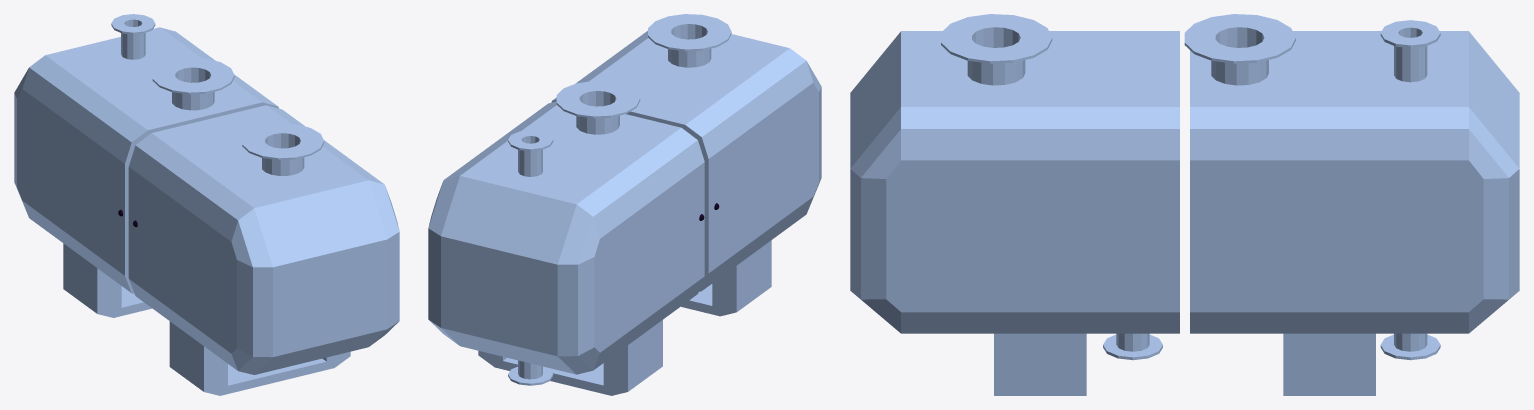
Rendered from pressure vesselulalt alla.fbx.
3 renders of one model, left to right at view 1: azimuth 30°, elevation 25°; view 2: azimuth 150°, elevation 25°; view 3: azimuth 270°, elevation 25°, orthographic. The views are drawn at different scales.
Parts seen in each view (by area): view 1: 2pool.001, 2pool, suur toru, suur toru.001, peenem toru; view 2: 2pool, 2pool.001, suur toru, suur toru.001, peenem toru, peenem toru tagurpdi.001; view 3: 2pool.001, 2pool, suur toru.001, suur toru, peenem toru, peenem toru tagurpdi.001, peenem toru tagurpdi.
Part boxes in pixels (<box>): 2pool.001: <box>128,105,399,395</box>; 2pool: <box>14,27,278,317</box>; suur toru: <box>152,58,234,110</box>; suur toru.001: <box>242,123,324,175</box>; peenem toru: <box>111,14,155,59</box>; 2pool: <box>428,101,704,395</box>; 2pool.001: <box>551,31,821,316</box>; suur toru: <box>556,81,640,134</box>; suur toru.001: <box>648,14,731,67</box>; peenem toru: <box>508,130,553,176</box>; peenem toru tagurpdi.001: <box>508,360,553,385</box>; 2pool.001: <box>850,31,1179,395</box>; 2pool: <box>1190,31,1519,395</box>; suur toru.001: <box>941,14,1052,85</box>; suur toru: <box>1184,14,1295,85</box>; peenem toru: <box>1380,20,1440,82</box>; peenem toru tagurpdi.001: <box>1380,333,1440,360</box>; peenem toru tagurpdi: <box>1103,333,1162,360</box>.
Bounding box in the file's own units: 321 × 459 × 840.
